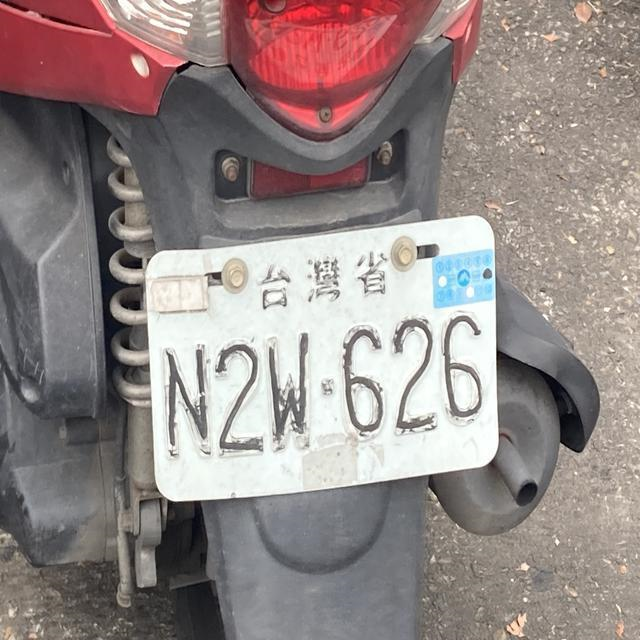license: (154, 303, 496, 466)
